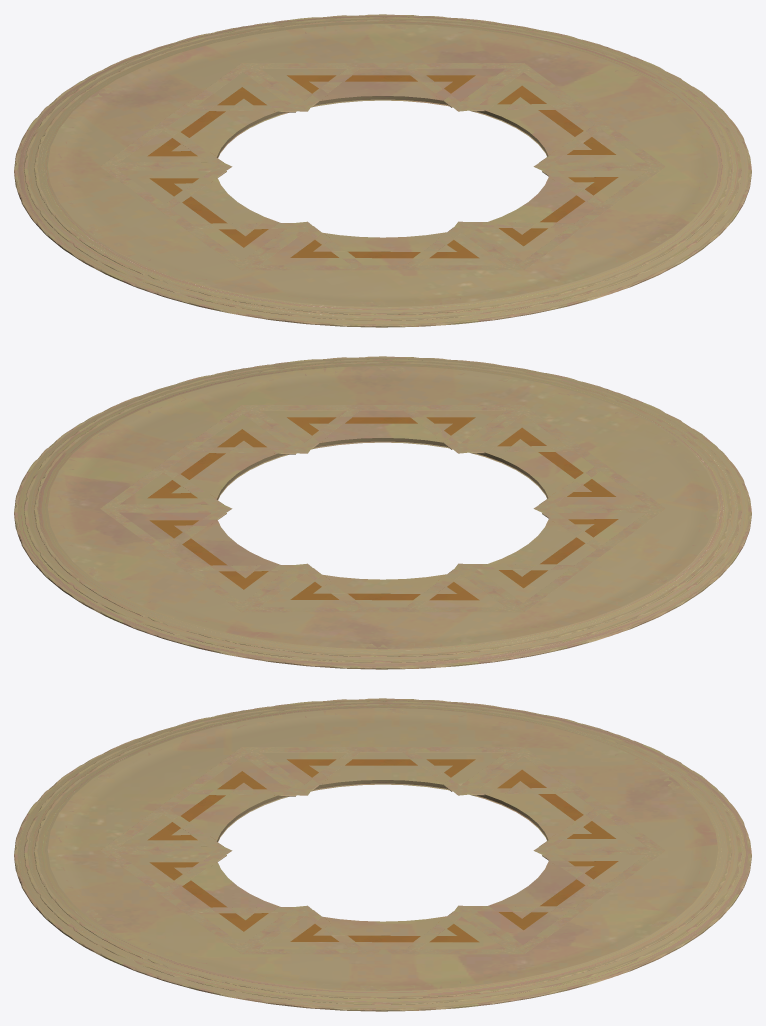
The model's file is CityBase.fbx.
3 renders of one model, top to bottom at view 1: azimuth 30°, elevation 25°; view 2: azimuth 150°, elevation 25°; view 3: azimuth 270°, elevation 25°, orthographic.
Parts seen in each view (by area): view 1: Props_NOM_LargeTractorBeam_COL, Props_NOM_LargeTractorBeam_Geo; view 2: Props_NOM_LargeTractorBeam_COL, Props_NOM_LargeTractorBeam_Geo; view 3: Props_NOM_LargeTractorBeam_COL, Props_NOM_LargeTractorBeam_Geo.
Boxes of the visible parts, box(x1,y1,x2,y2) form: Props_NOM_LargeTractorBeam_COL: box(15, 15, 750, 325); Props_NOM_LargeTractorBeam_Geo: box(14, 14, 751, 327); Props_NOM_LargeTractorBeam_COL: box(15, 357, 750, 667); Props_NOM_LargeTractorBeam_Geo: box(14, 356, 751, 669); Props_NOM_LargeTractorBeam_COL: box(15, 699, 750, 1009); Props_NOM_LargeTractorBeam_Geo: box(14, 698, 751, 1011).
Size of the model in its own units: 2872 by 26.11 by 2873.
